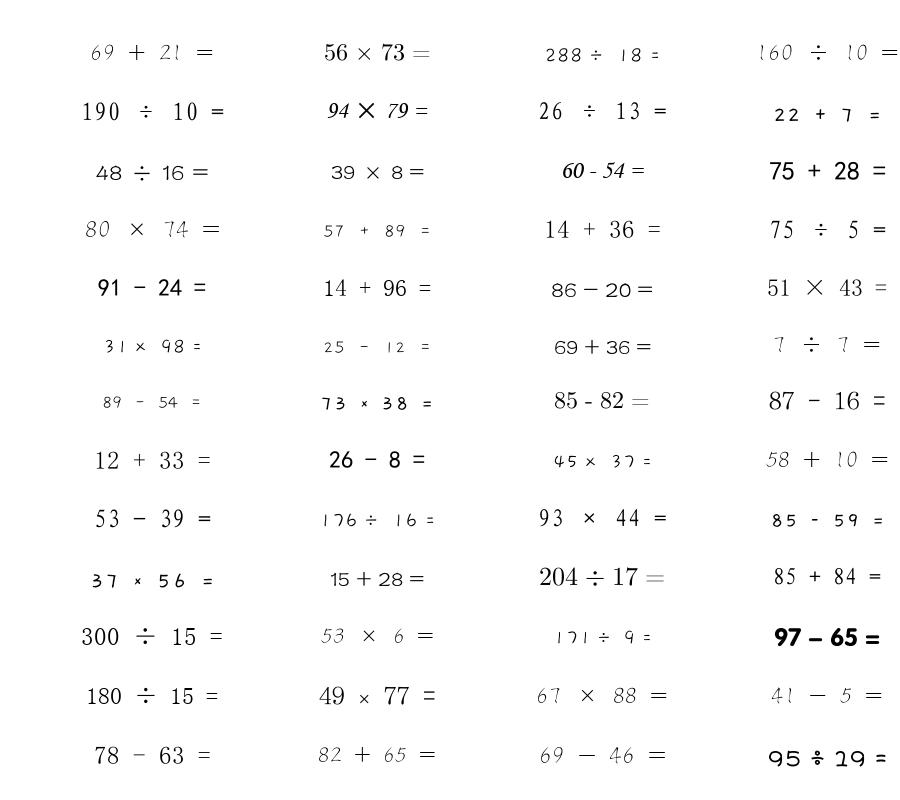MQ: (81, 102, 224, 121), (81, 627, 223, 645), (756, 44, 899, 61), (85, 220, 220, 238), (539, 567, 665, 586), (538, 102, 667, 120), (538, 509, 667, 527), (539, 746, 666, 764), (86, 687, 218, 704), (536, 687, 668, 704), (769, 161, 886, 180), (769, 220, 886, 239), (769, 391, 886, 410), (94, 509, 211, 528), (319, 686, 436, 705), (774, 627, 880, 647), (90, 44, 214, 61), (544, 220, 661, 238), (94, 451, 211, 469), (94, 746, 211, 764), (766, 451, 889, 468), (767, 279, 887, 296), (768, 750, 887, 767), (773, 567, 881, 585), (324, 43, 431, 61), (771, 687, 883, 704), (90, 573, 215, 588), (98, 279, 206, 296), (323, 279, 431, 296), (96, 165, 209, 181), (318, 747, 436, 762), (544, 48, 660, 63), (319, 513, 435, 528), (326, 102, 428, 119), (773, 337, 881, 353), (554, 391, 650, 409), (321, 628, 434, 643), (329, 451, 425, 468), (554, 339, 651, 355), (773, 108, 882, 122), (323, 224, 432, 238), (330, 571, 424, 587), (770, 514, 885, 527), (103, 339, 202, 354), (553, 454, 652, 469), (553, 630, 652, 645), (320, 397, 434, 410), (551, 283, 653, 297), (323, 341, 432, 354), (560, 162, 644, 178), (331, 165, 424, 179), (102, 396, 202, 409)
